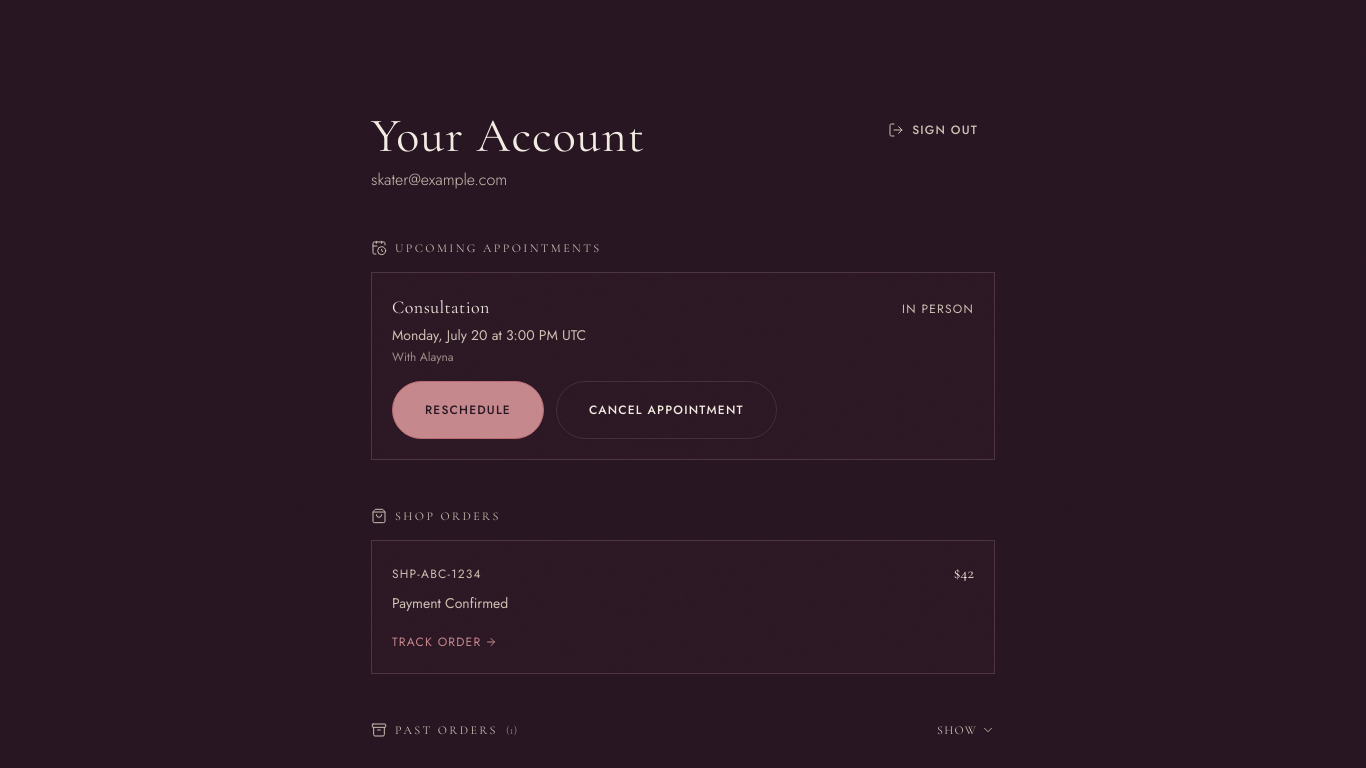
Test: Account dashboard › badges a completed custom order and files it under past orders
Expected: the element with test id "past-orders" shows "(1)", x1=371 y1=722 x2=995 y2=738
Click the button with test id "button-toggle-past-orders" at [966, 730], box x1=937 y1=722 x2=995 y2=738
(page scrolled)
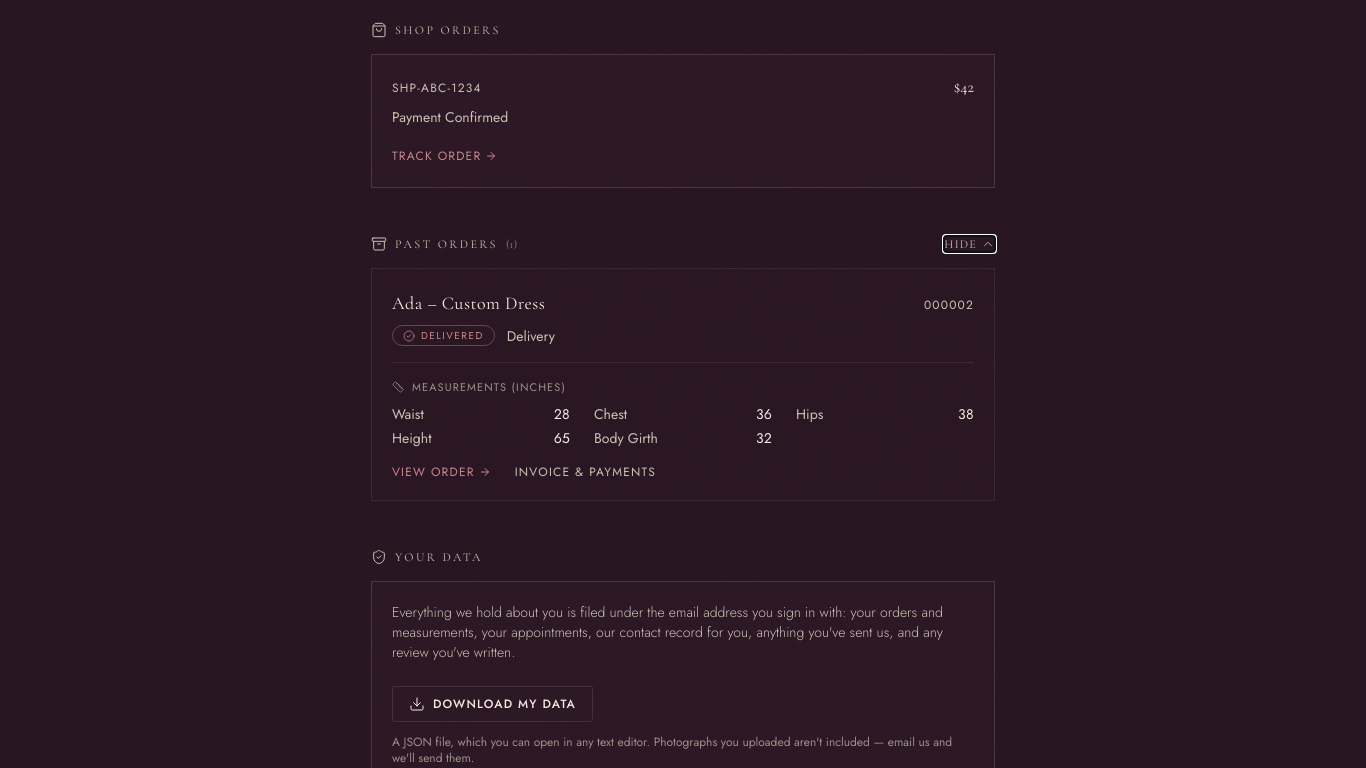
Expected: the element with test id "custom-order-000002" does not show "Stage 3 of 3", x1=371 y1=268 x2=995 y2=500
Expected: the element with test id "order-state-completed" reads "Delivered", x1=421 y1=328 x2=484 y2=343
Expected: the element with test id "custom-order-000002" shows "Delivery", x1=507 y1=326 x2=555 y2=346
